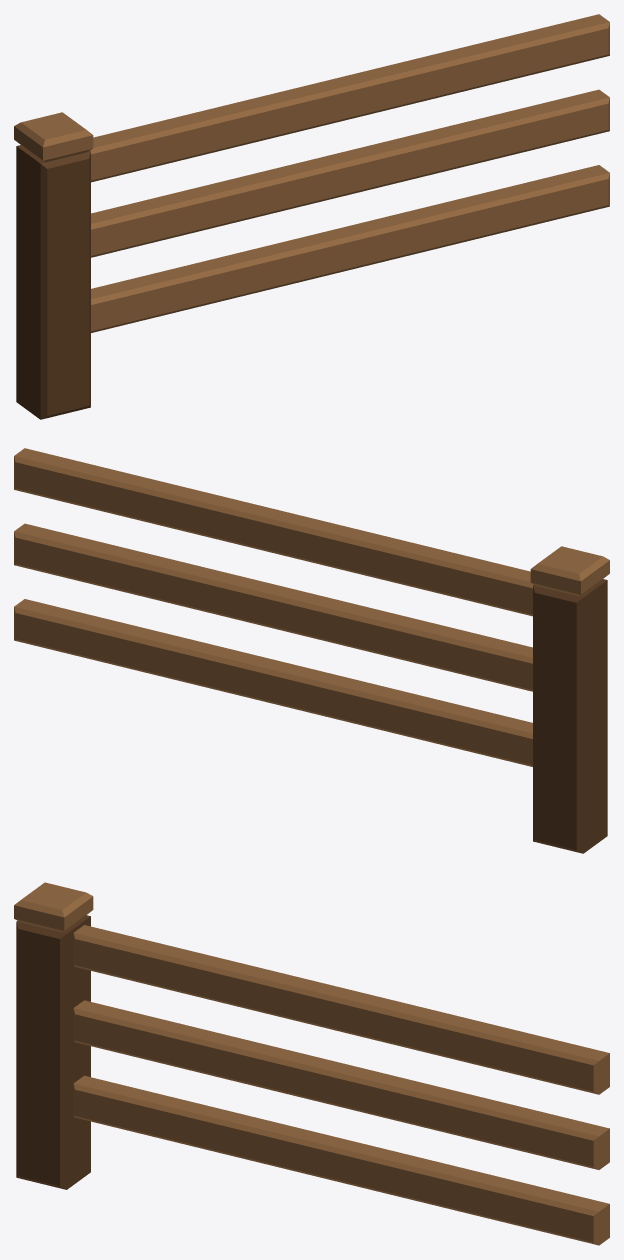
File: Fence_03.glb
The picture shows the model from 3 angles, top to bottom: view 1: azimuth 30°, elevation 25°; view 2: azimuth 150°, elevation 25°; view 3: azimuth 330°, elevation 25°; orthographic projection.
Visible parts, largest first — view 1: Fence_03; view 2: Fence_03; view 3: Fence_03.
Part boxes in pixels (x1,y1,x2,y2): Fence_03: (14, 14, 609, 419); Fence_03: (14, 448, 609, 853); Fence_03: (14, 882, 609, 1245).
Bounding box in the file's own units: 8 × 3.7 × 0.6988.
